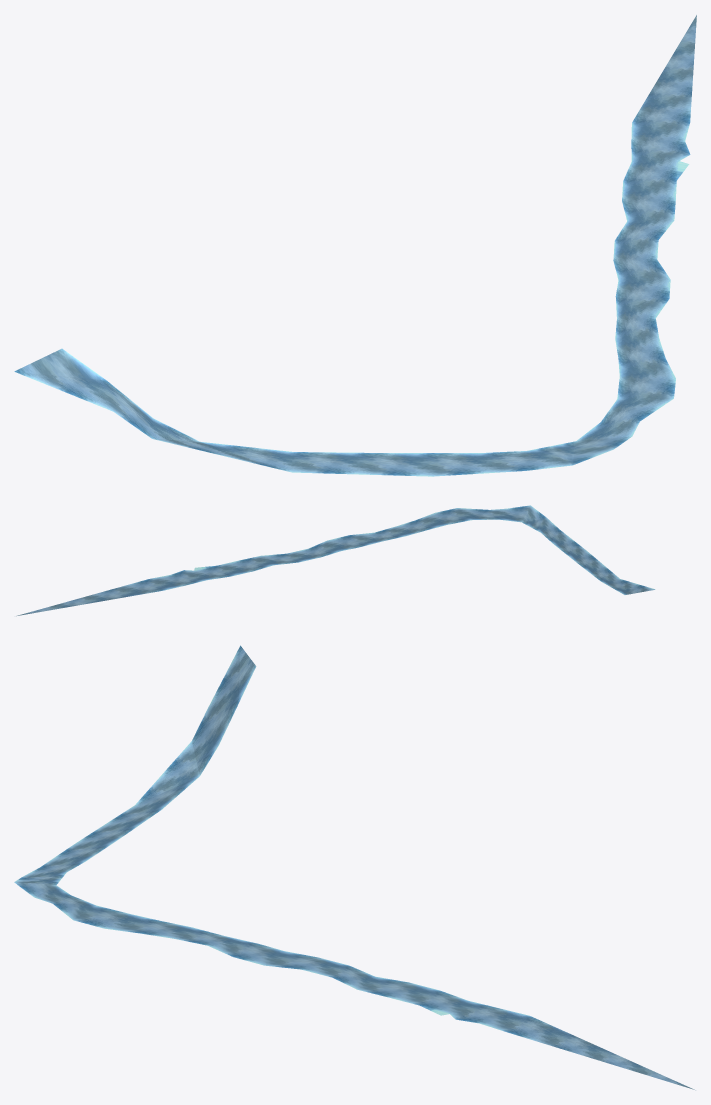
Rendered from ncriver.glb.
3 views of the same model, one above another, from view 1: azimuth 30°, elevation 25°; view 2: azimuth 150°, elevation 25°; view 3: azimuth 270°, elevation 25° (orthographic). The views are drawn at different scales.
Visible parts, largest first — view 1: ncriver; view 2: ncriver; view 3: ncriver.
Boxes of the visible parts, <box> form: ncriver: <box>14,15,696,476</box>; ncriver: <box>16,505,655,616</box>; ncriver: <box>14,645,695,1090</box>.
Bounding box in the file's own units: 40454 × 4137 × 31473.
1 material, 1 textured.
